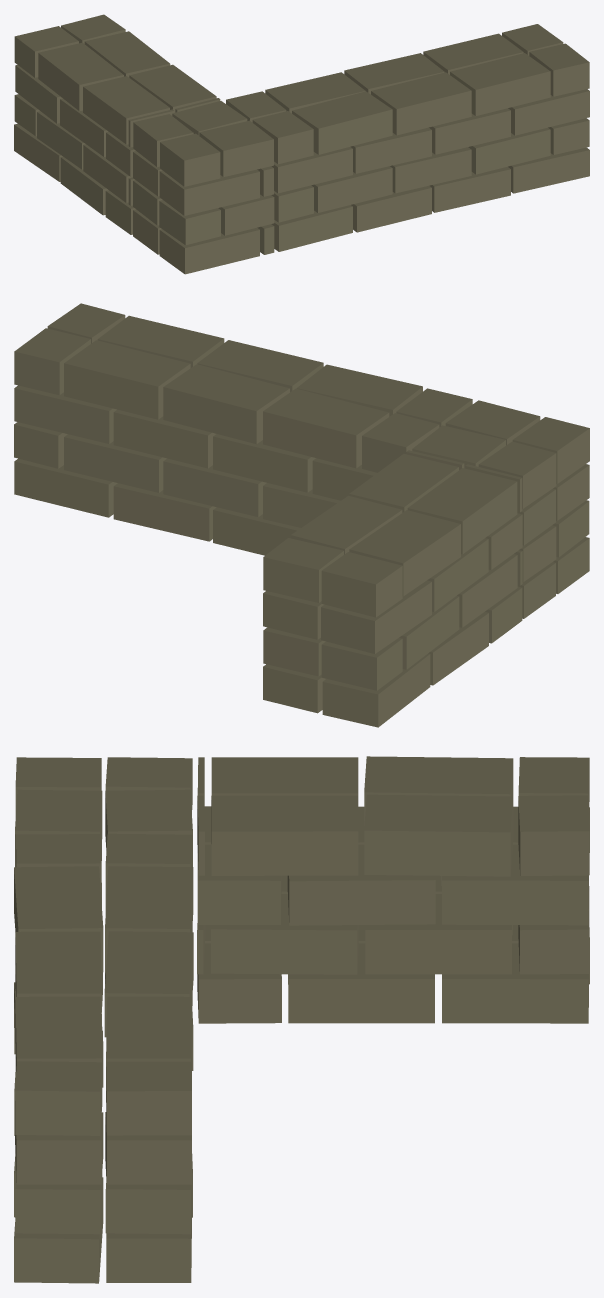
Rendered from SM_PretilEsquinaPaso_v0_Recto_e0_Sano_LOD0.fbx.
The picture shows the model from 3 angles, top to bottom: view 1: azimuth 30°, elevation 25°; view 2: azimuth 150°, elevation 25°; view 3: azimuth 270°, elevation 25°; orthographic projection. The views are drawn at different scales.
Visible parts, largest first — view 1: SM_pretil_azotea_v40_LOD0; view 2: SM_pretil_azotea_v40_LOD0; view 3: SM_pretil_azotea_v40_LOD0.
Boxes of the visible parts, <box> form: SM_pretil_azotea_v40_LOD0: <box>14,14,589,274</box>; SM_pretil_azotea_v40_LOD0: <box>14,303,589,727</box>; SM_pretil_azotea_v40_LOD0: <box>14,756,589,1283</box>.
Bounding box in the file's own units: 4.38 × 1.17 × 3.18.
